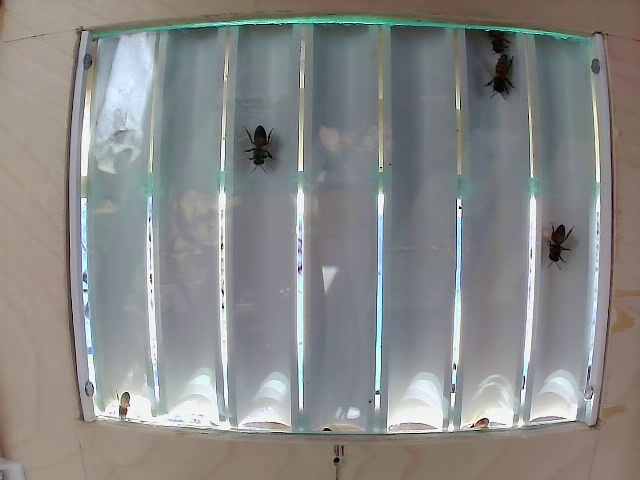bee: (532, 203, 575, 276), (236, 120, 293, 169), (486, 46, 513, 98)
